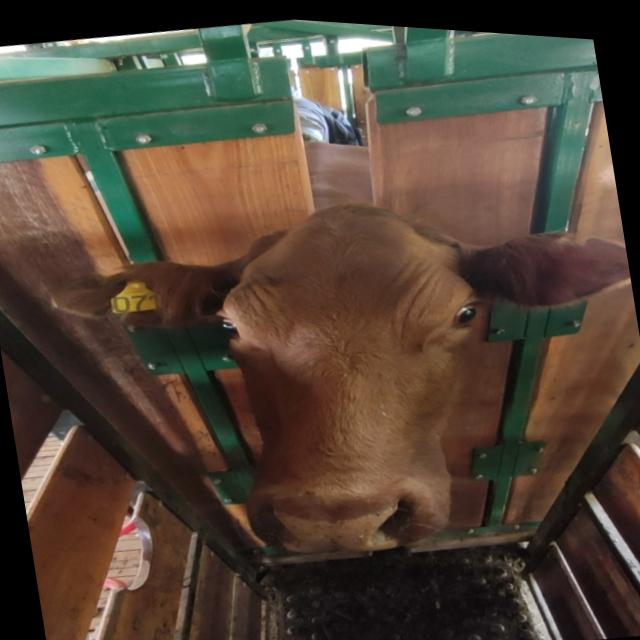cowFace: (205, 174, 518, 570)
